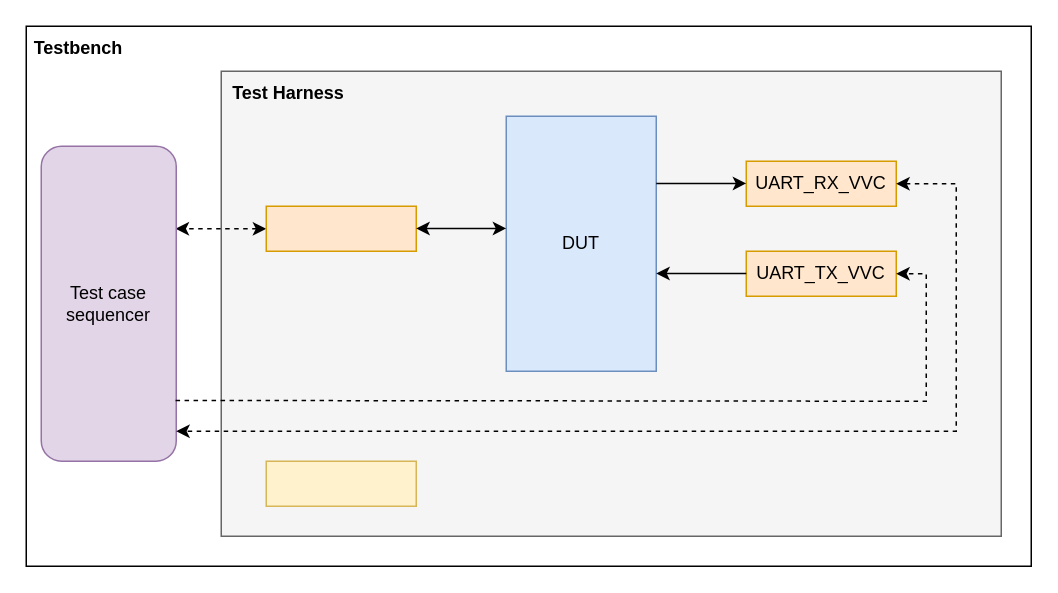
Some shapes in this 1058 by 593 pixel diagram are drawn without their labels. Each missing label, with the centre of its shape:
Avalon-ST VVC: the point at 340,228
UVVM engine: the point at 340,483
